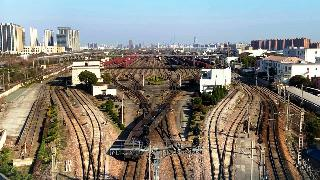train: (123, 104, 169, 161)
